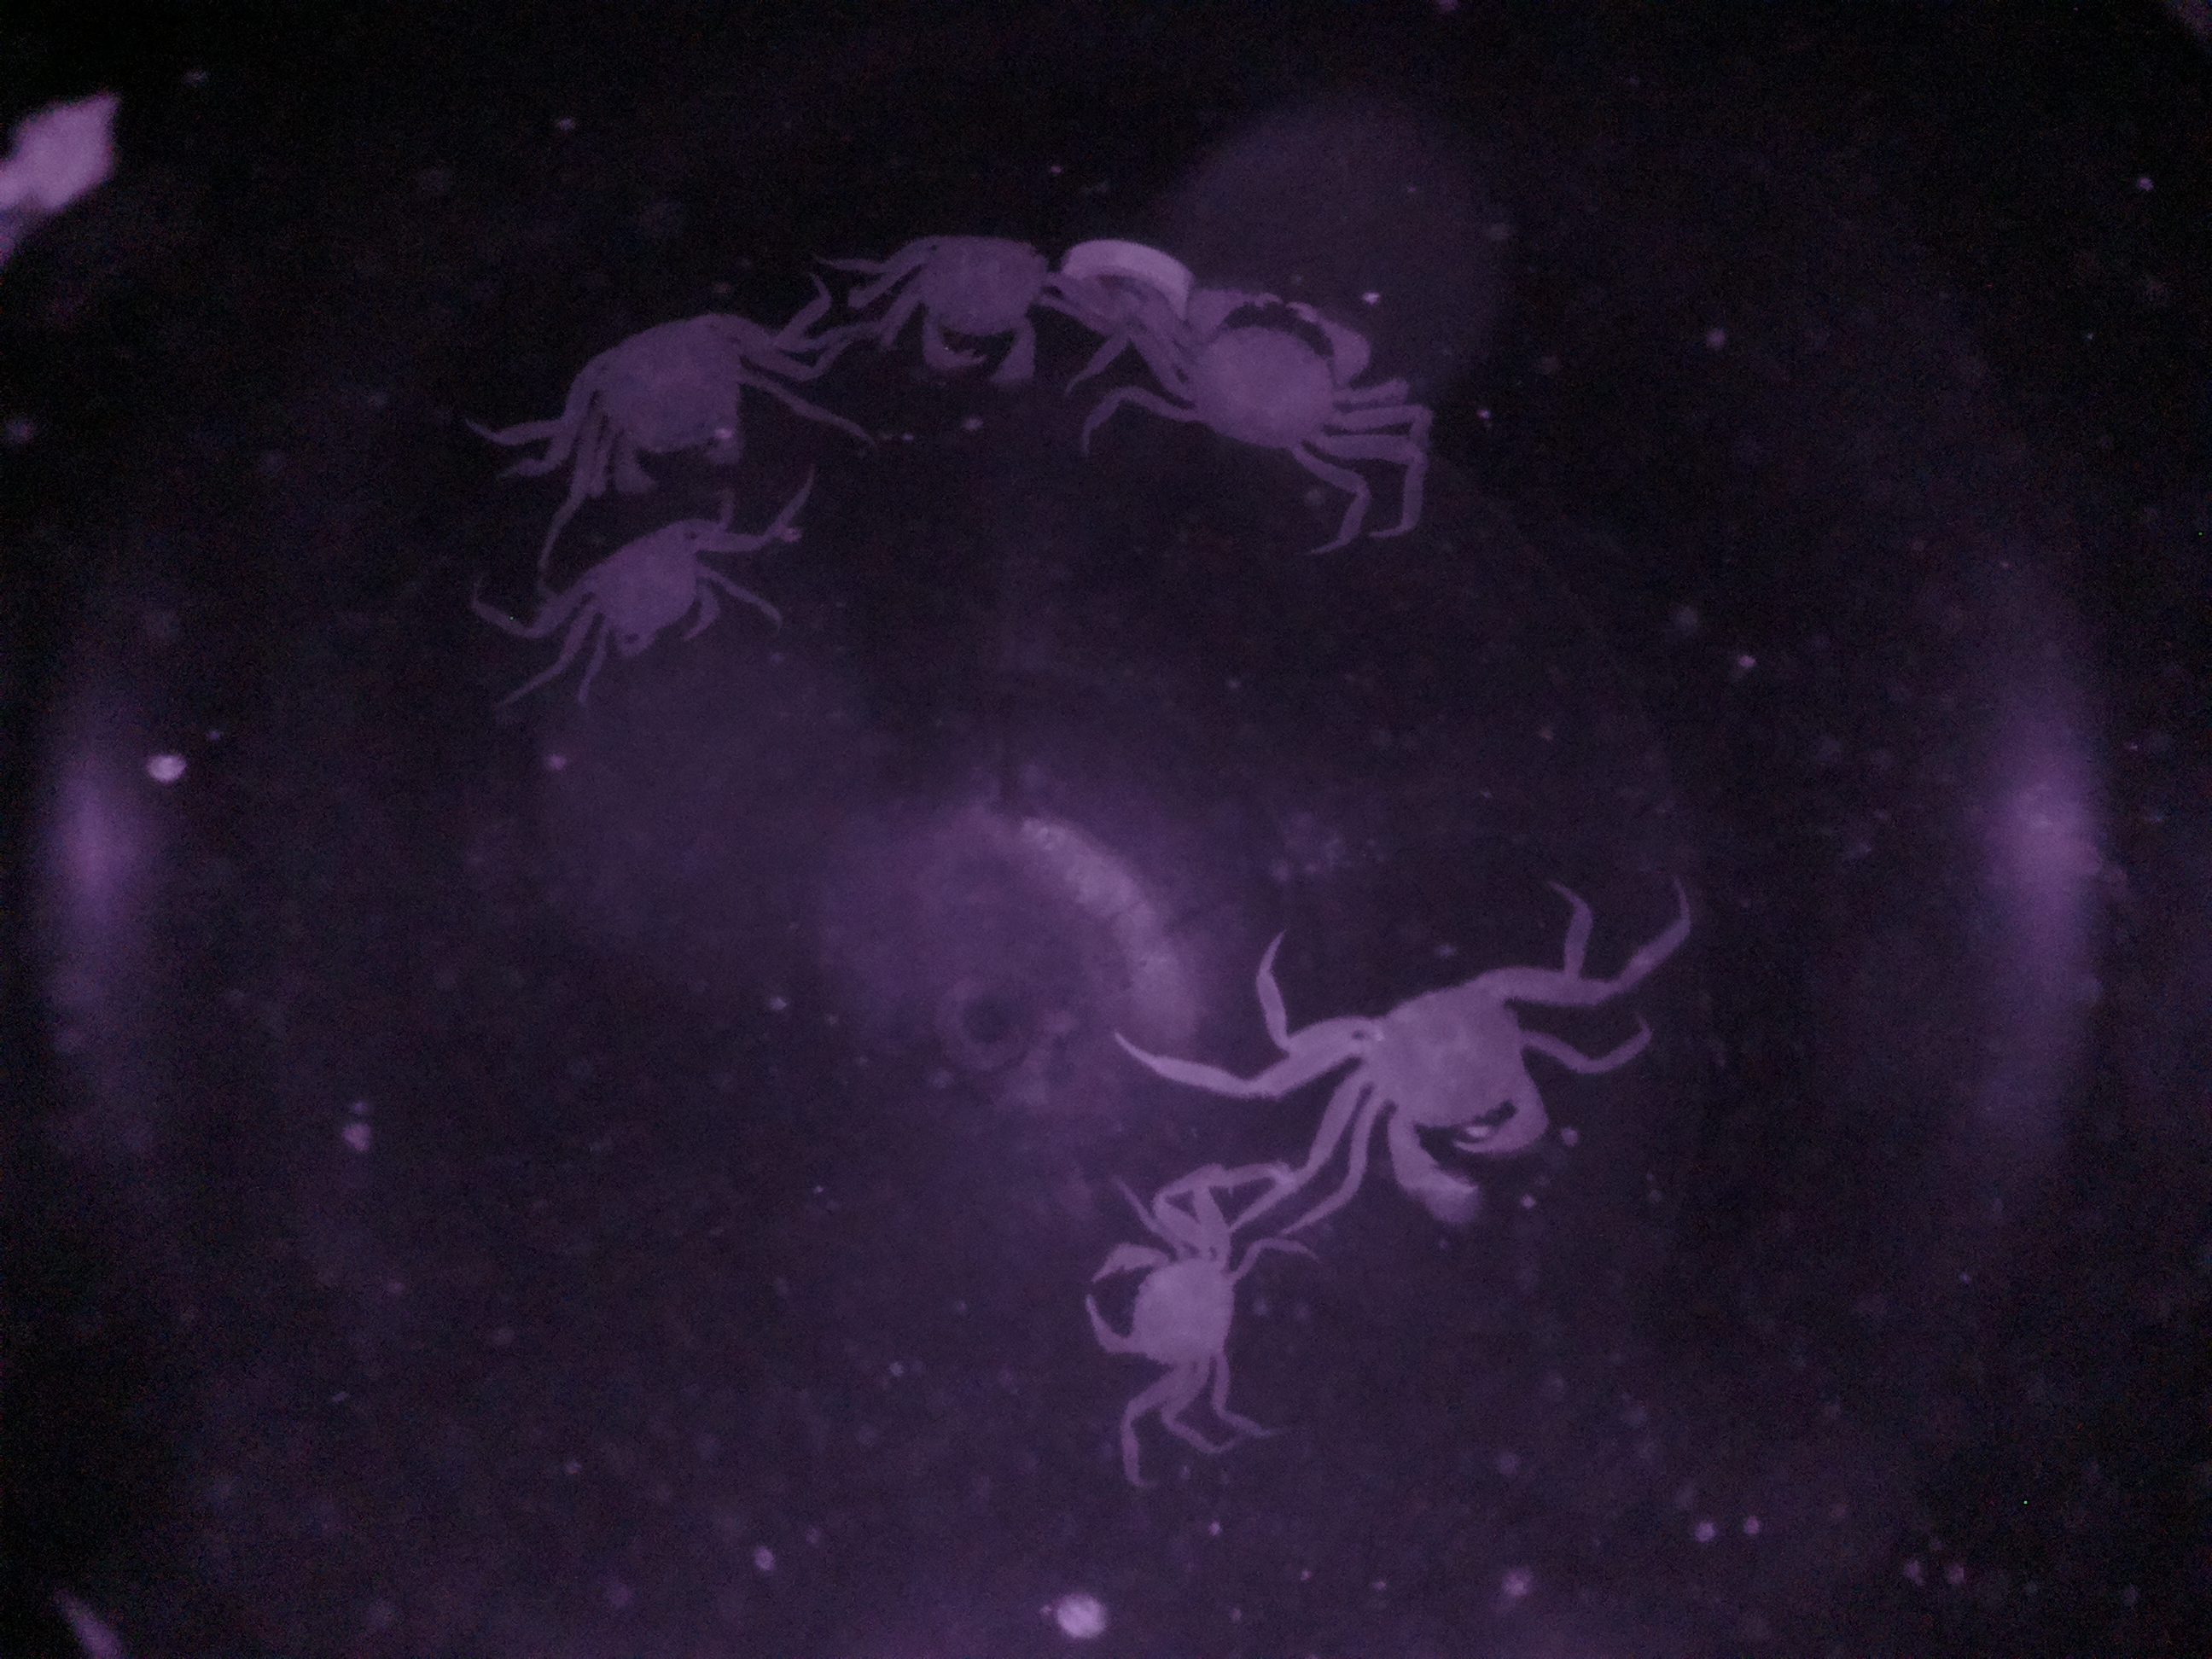Crab: (1322, 939, 1566, 1211), (1134, 268, 1378, 484), (538, 284, 786, 481), (1071, 1206, 1261, 1406), (542, 502, 738, 674), (873, 227, 1069, 397)
